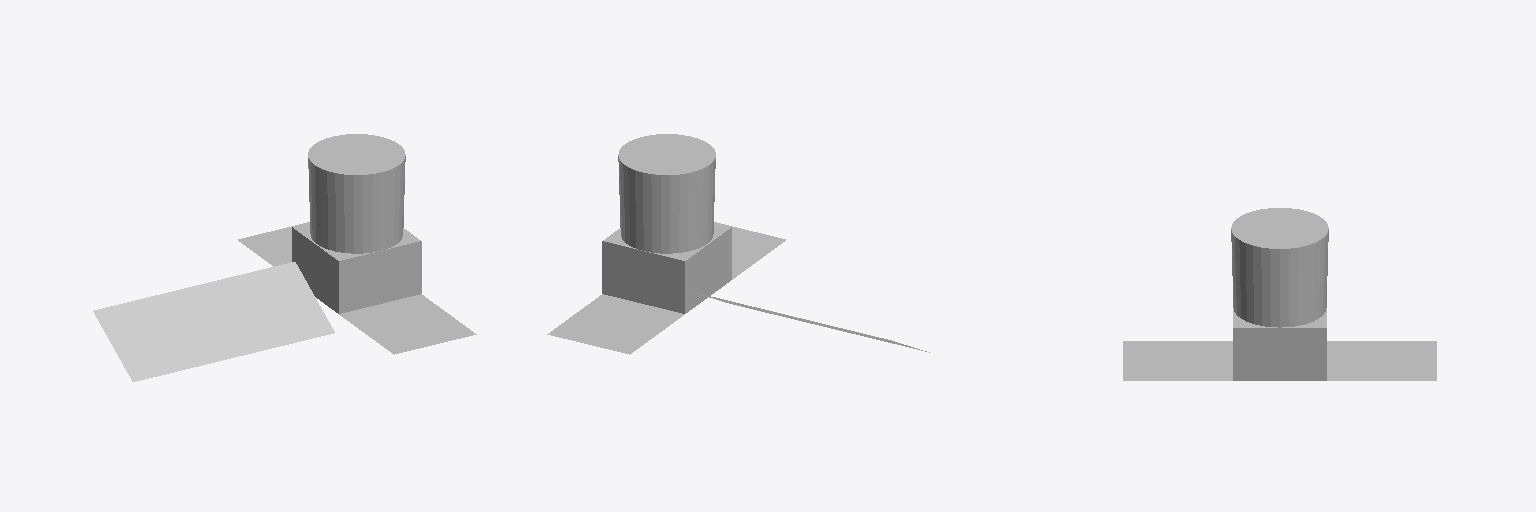
The model's file is straight_combined_LAMP_30.obj.
The picture shows the model from 3 angles: view 1: azimuth 30°, elevation 25°; view 2: azimuth 150°, elevation 25°; view 3: azimuth 270°, elevation 25°; orthographic projection.
Parts seen in each view (by area): view 1: 27U_combined_case_straight_solar.001, 27U_combined_case_straight_solar.000; view 2: 27U_combined_case_straight_solar.001, 27U_combined_case_straight_solar.000; view 3: 27U_combined_case_straight_solar.001.
Boxes of the visible parts, x1,y1,x2,y2 form: 27U_combined_case_straight_solar.001: [238, 134, 476, 354]; 27U_combined_case_straight_solar.000: [93, 262, 334, 381]; 27U_combined_case_straight_solar.001: [547, 134, 785, 354]; 27U_combined_case_straight_solar.000: [690, 291, 929, 352]; 27U_combined_case_straight_solar.001: [1123, 208, 1436, 380].
Size of the model in its own units: 1.24 by 0.6375 by 1.18.